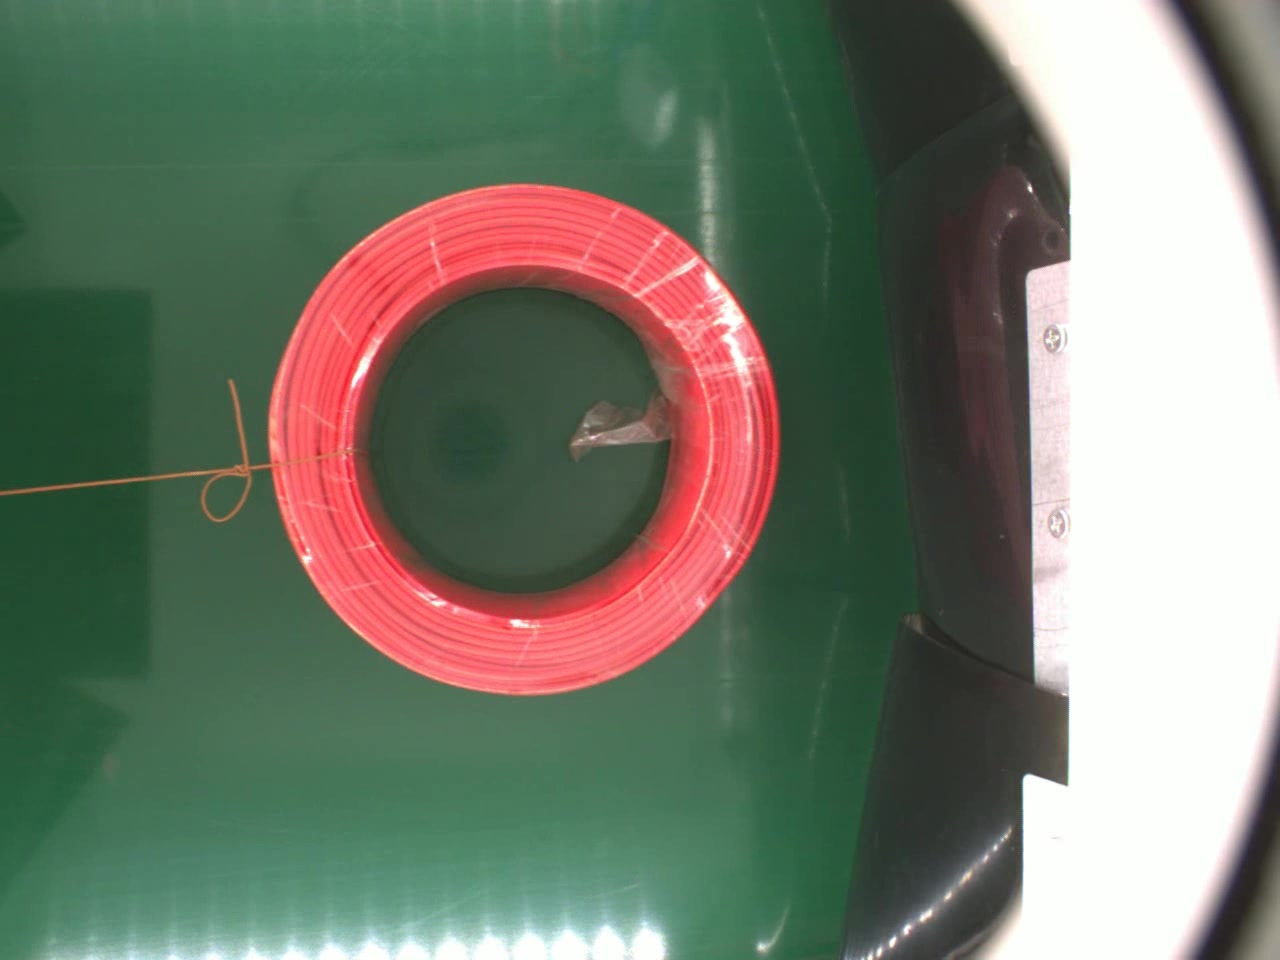red: (267, 182, 790, 698)
